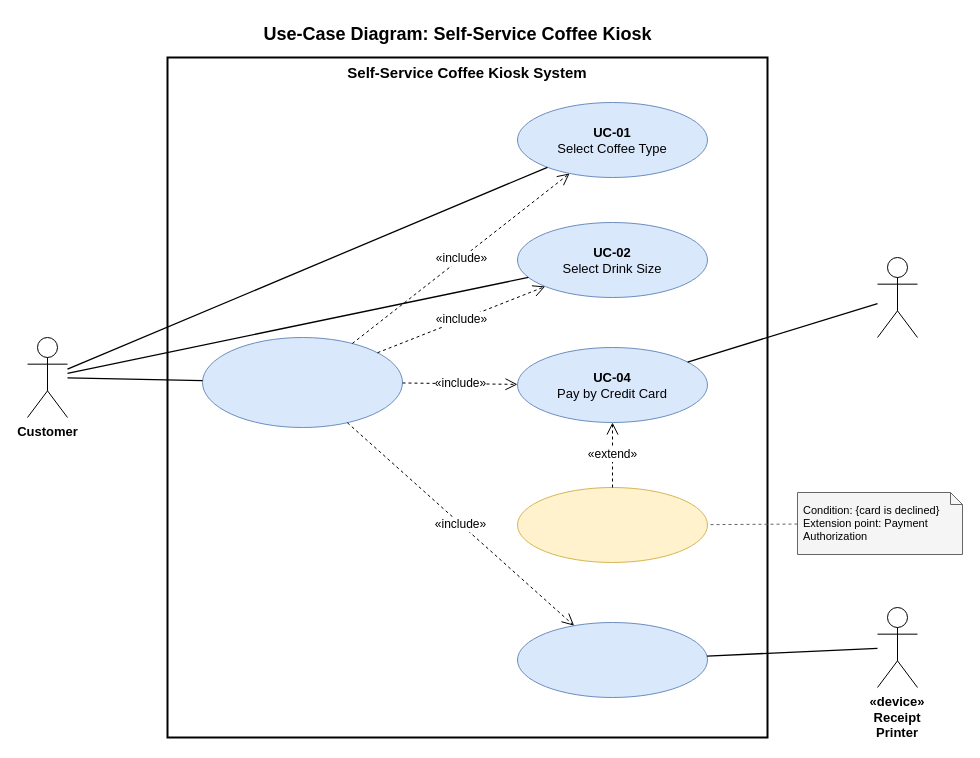
Image size: 980x758. Some labels were removed from this diagram. Here are the shapes that lost their labels. From the top down, the box of each, then its label:
(876, 256, 918, 338): «system» Payment Gateway
(202, 336, 402, 428): UC-03 Place Order (review summary & total)
(516, 486, 708, 562): UC-06 Handle Declined Payment
(516, 622, 708, 698): UC-05 Print Receipt
